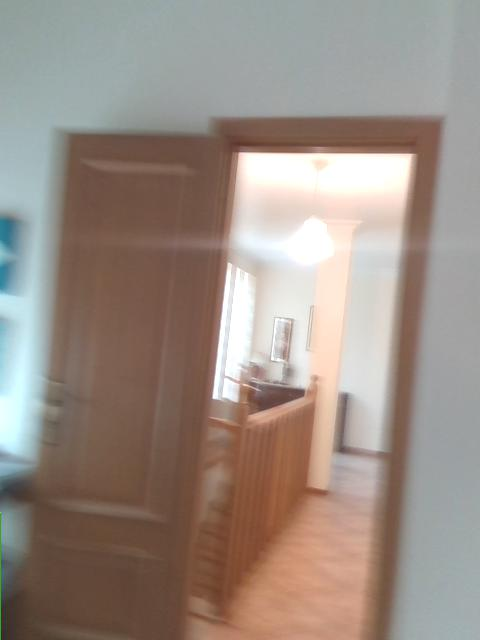open_door: (169, 115, 447, 639)
